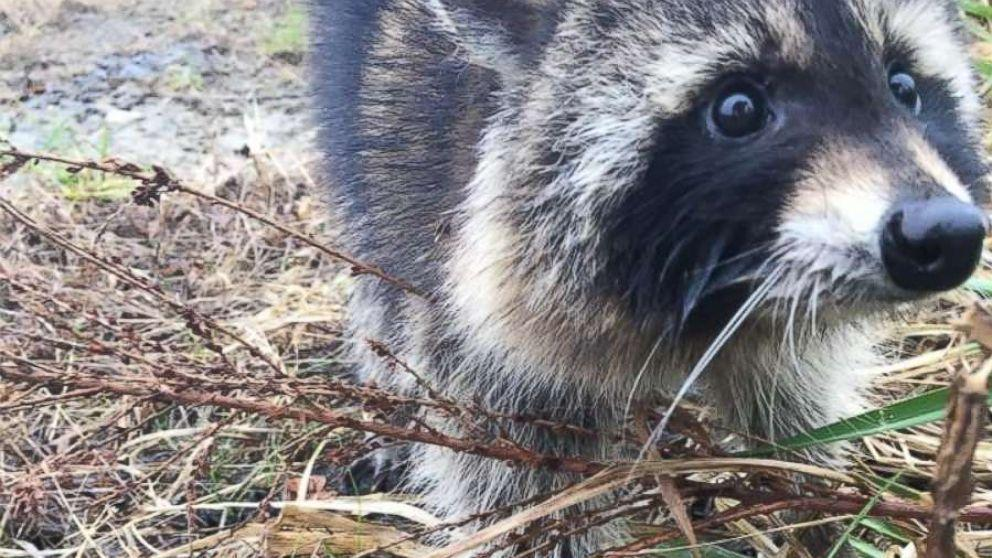raccoon: (298, 0, 992, 558)
